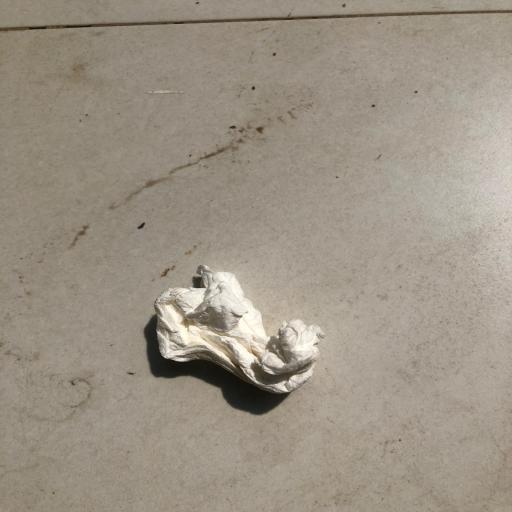waste: (101, 236, 340, 409)
